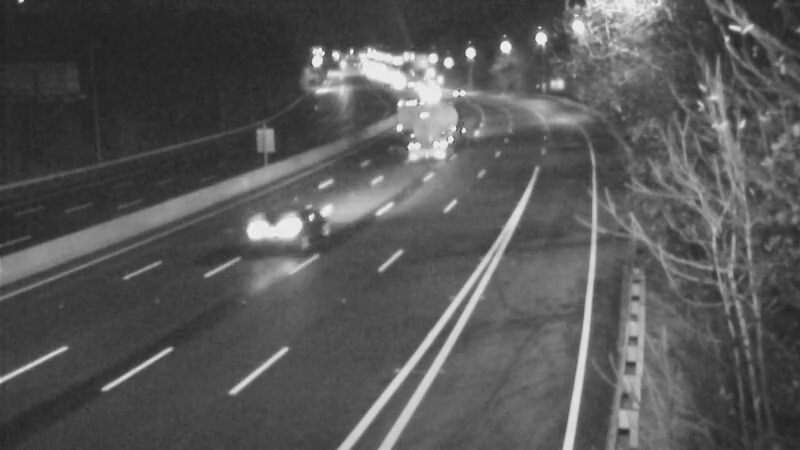vehicle: (253, 175, 333, 255), (432, 69, 482, 119), (403, 68, 453, 118), (414, 102, 464, 152), (377, 86, 427, 136)
